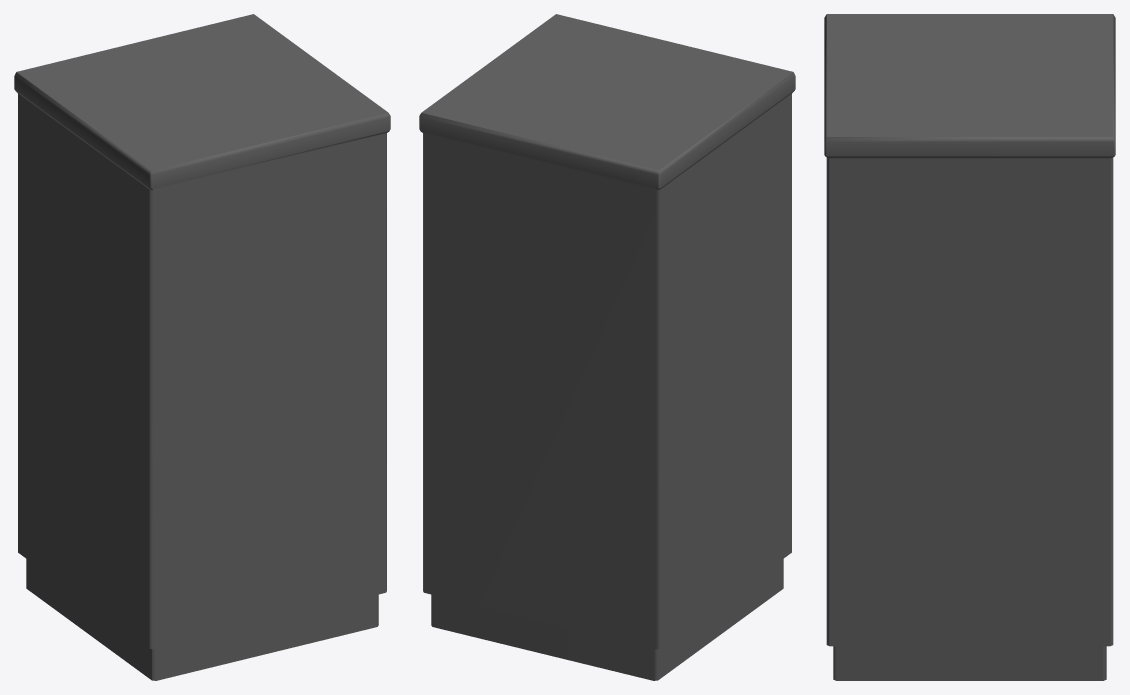
Rendered from Side_Table_213_4_1_mesh.obj.
3 views of the same model, side by side, from view 1: azimuth 30°, elevation 25°; view 2: azimuth 150°, elevation 25°; view 3: azimuth 270°, elevation 25° (orthographic). The views are drawn at different scales.
Size of the model in its own units: 0.2593 by 0.5282 by 0.2552.
